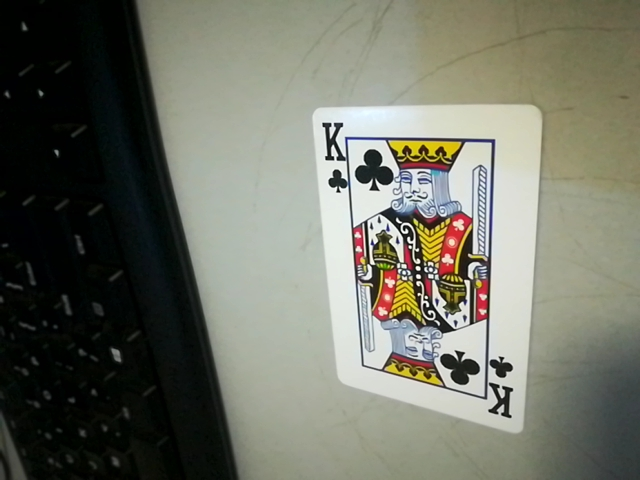mh k: (314, 115, 352, 193)
